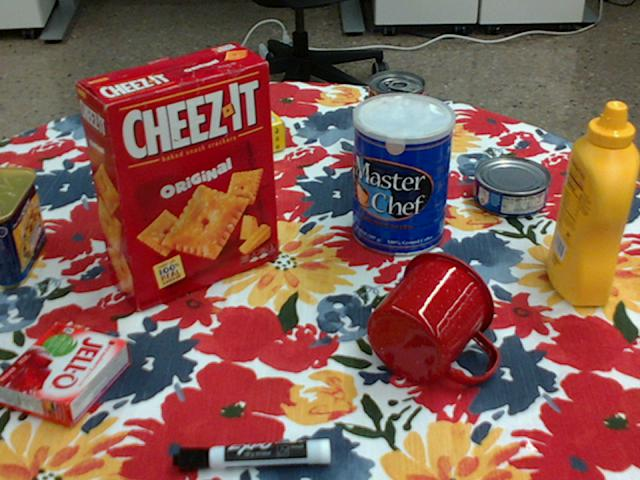cracker_box: (74, 43, 274, 308)
gelatin_box: (0, 322, 131, 426)
large_marker: (173, 439, 332, 470)
master_chef_can: (352, 93, 454, 257)
mug: (368, 251, 497, 383)
mustard_bottle: (544, 103, 636, 306)
potted_meat_can: (0, 165, 43, 287)
sugar_box: (122, 95, 283, 183)
tomato_soup_can: (366, 71, 424, 171)
tuna_fish_can: (473, 158, 551, 219)
